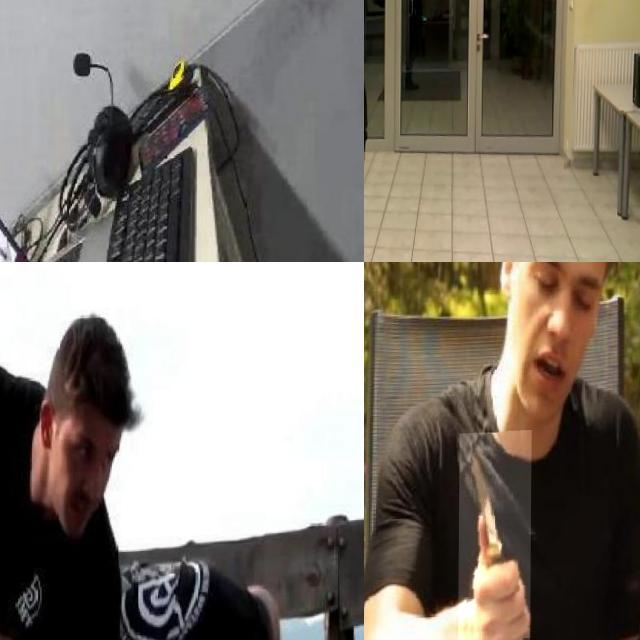-: (459, 431, 531, 640), (0, 585, 57, 640), (276, 0, 342, 33)
gun-knife-thesis - v11 Yolov5 augmented: (364, 54, 383, 95)
